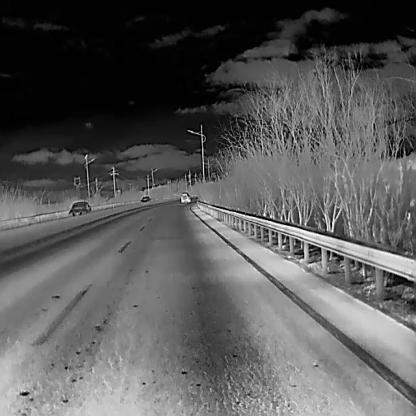car: (67, 201, 92, 218), (179, 192, 190, 202), (140, 196, 150, 202)
